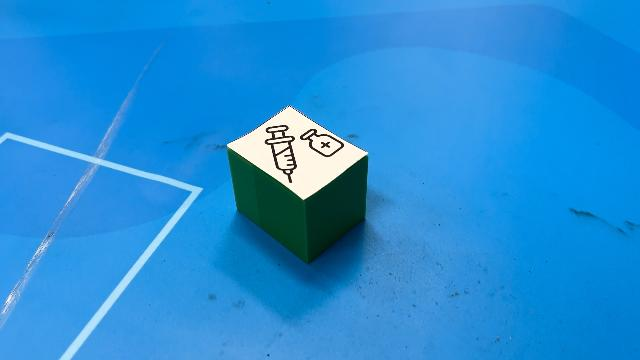syringe: (225, 104, 368, 264)
